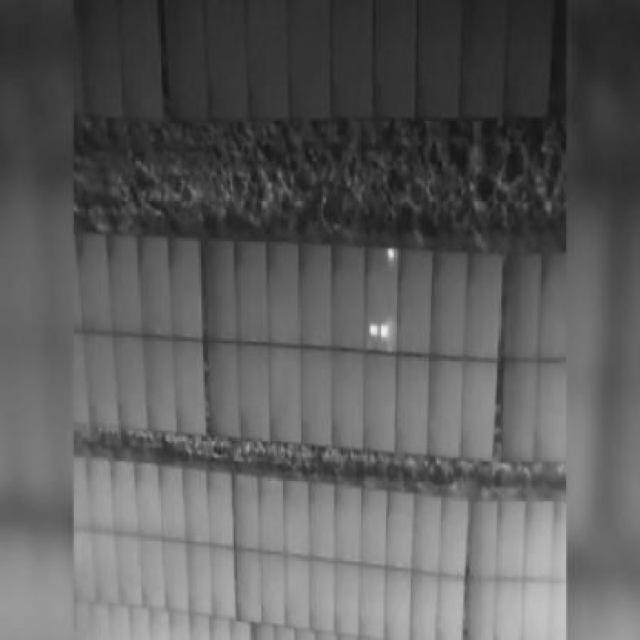hotspot: (365, 323, 378, 339), (386, 248, 397, 264), (379, 324, 388, 342)
